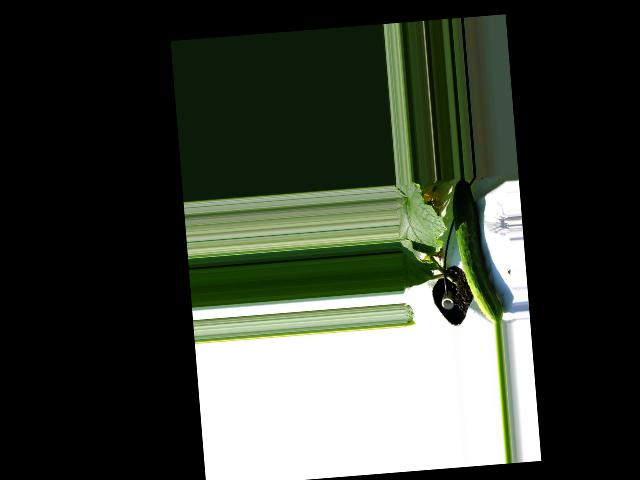cucumber: (450, 176, 503, 327)
